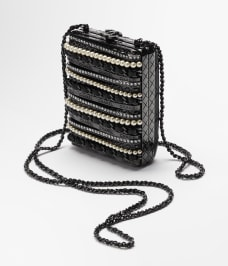channel: (53, 19, 165, 171)
